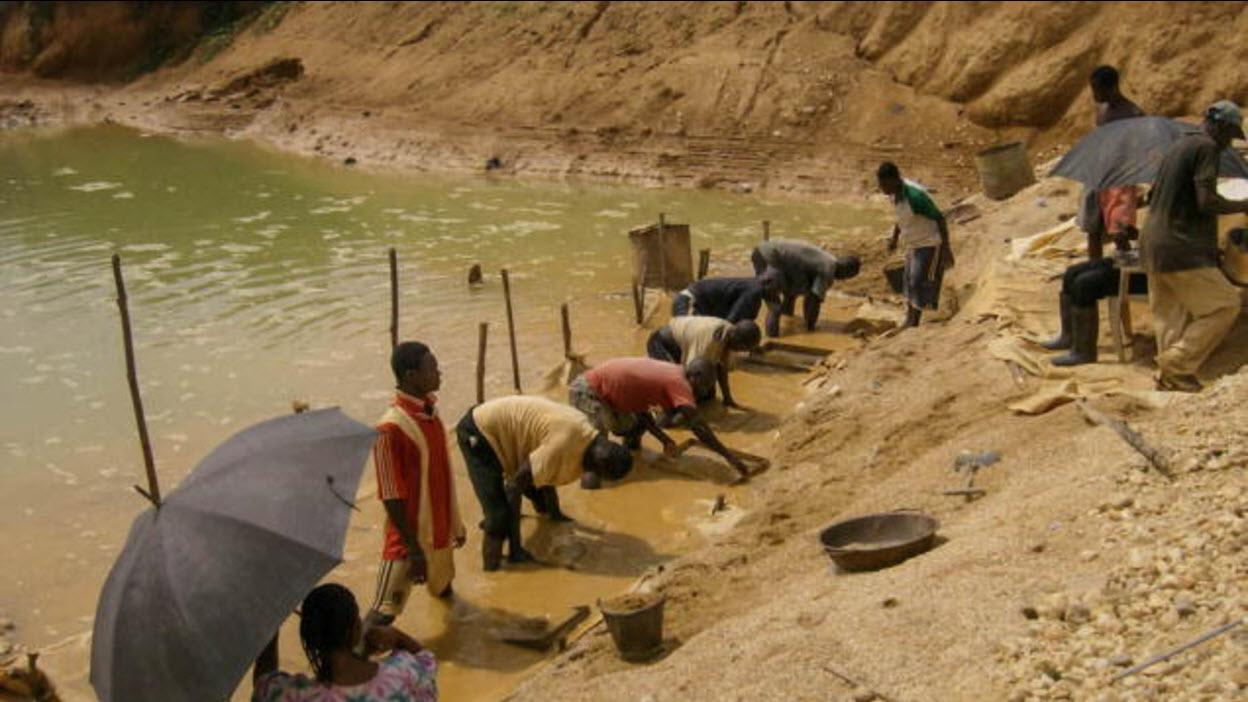MiningTool: (451, 586, 597, 650), (813, 503, 941, 569), (503, 501, 606, 579), (645, 436, 770, 488), (594, 586, 679, 662), (756, 329, 836, 372), (880, 257, 907, 293)
Person: (365, 338, 475, 651), (454, 392, 636, 576), (1137, 100, 1248, 393), (563, 354, 744, 490), (257, 593, 440, 702), (1070, 64, 1151, 258), (872, 159, 955, 335), (1043, 240, 1141, 366), (751, 235, 861, 343), (643, 310, 756, 411), (669, 267, 789, 362)
Structure: (85, 400, 379, 702), (1049, 111, 1248, 188)
